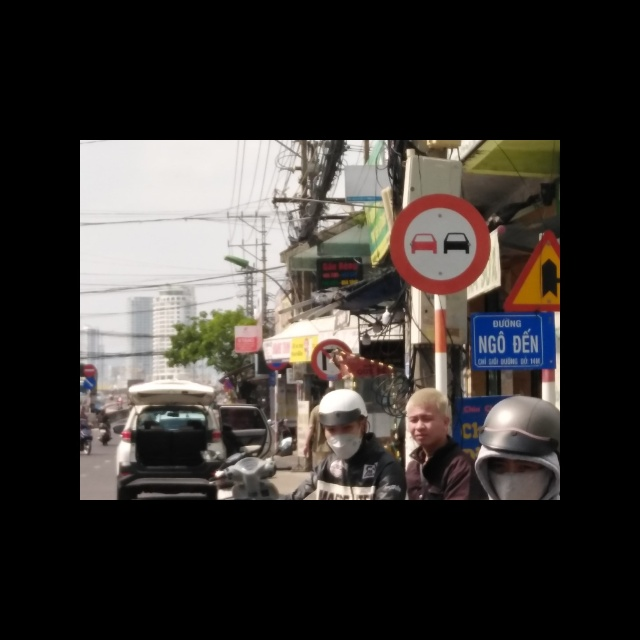Cấm vượt: (386, 193, 489, 294)
Giao nhau với đường không ưu tiên: (502, 230, 560, 314)
